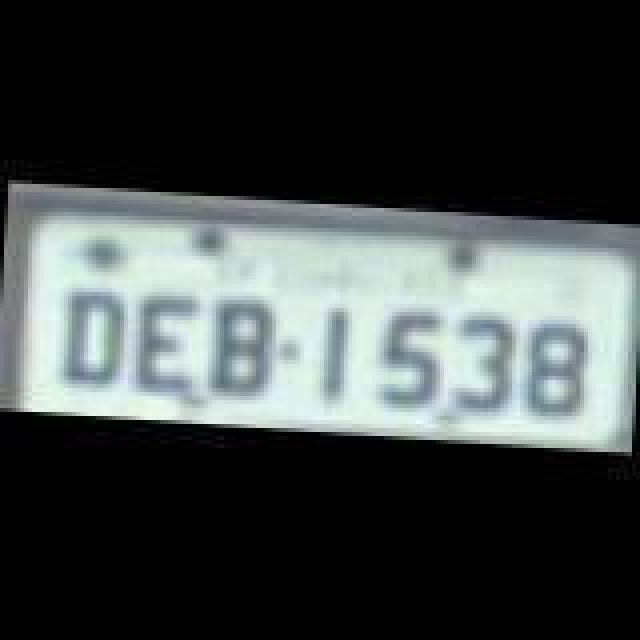1: (318, 298, 362, 406)
3: (452, 310, 524, 418)
5: (378, 308, 446, 412)
8: (522, 318, 598, 426)
B: (210, 298, 278, 406)
D: (60, 284, 132, 388)
E: (134, 296, 202, 400)
